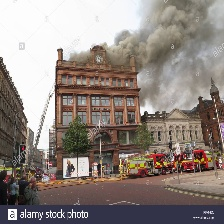smoke: (65, 1, 224, 67)
